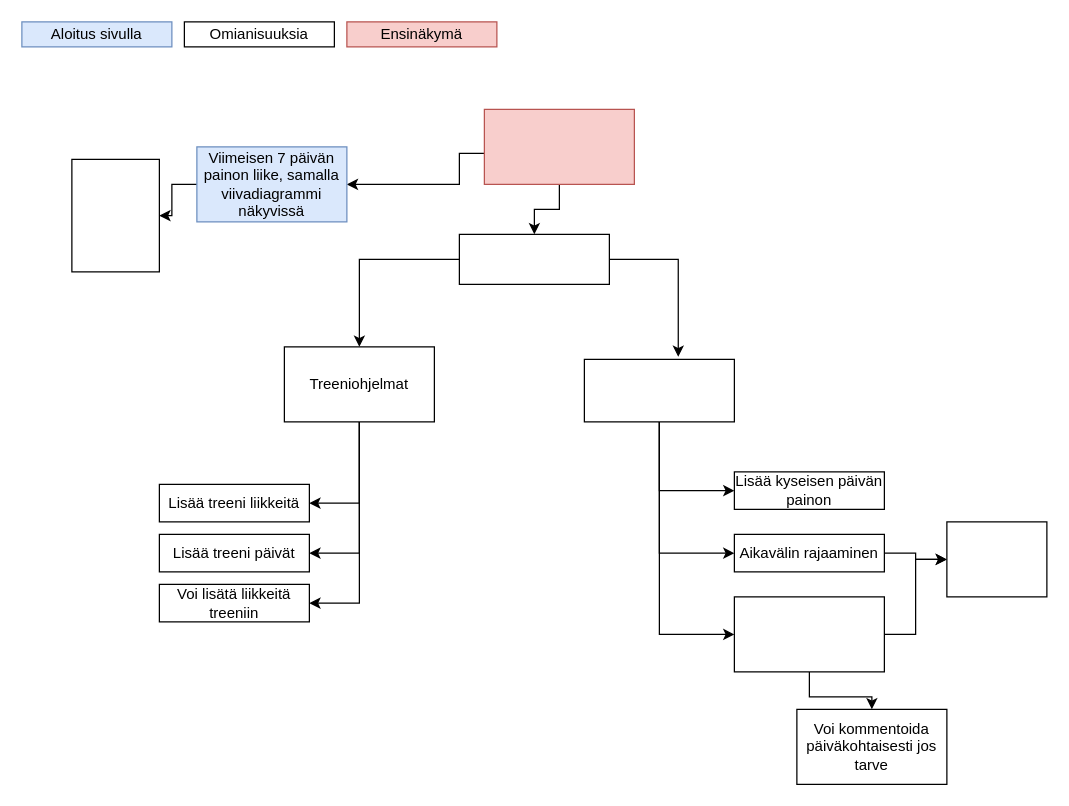
Image size: 1069x806. Some labels were removed from this diagram. The centre of each missing label's shape, as x and y in pixels:
"Ebin_Bodaus_softa" goes at (558,146).
"Hamppari valikko" goes at (533,258).
"Mahdollista lisätä päivän reeni näkymään" goes at (115,215).
"Painolle viivadiagrammi päivien mukaan" goes at (808,634).
"Painon seuranta" goes at (658,390).
"Voi valita aikavälin jolla diagrammi näkyy" goes at (996,559).
